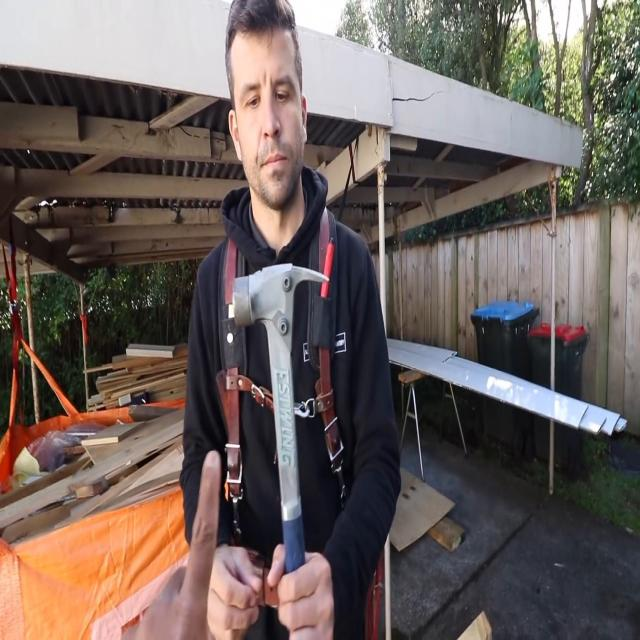hammer: (228, 260, 333, 580)
